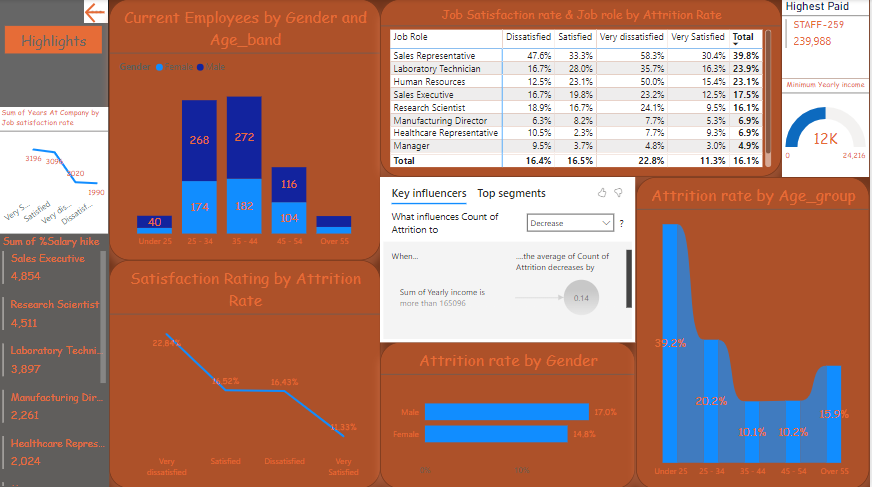

The dashboard page shown, as its layout file describes it:
{"tool":"powerbi","page":{"name":"HR view 2","canvas":[1280,720],"ordinal":1},"visuals":[{"type":"actionButton","box":[27,159,109,40],"z":0},{"type":"shape","box":[0,0,163,720],"z":1000},{"type":"actionButton","box":[124,0,39,40],"z":2000},{"type":"actionButton","box":[11,40,142,40],"z":3000},{"type":"columnChart","title":"Current Employees by Gender and Age_band","fields":{"Category":["HR data.CF_age band"],"Y":["Sum(HR data.CF_current Employee)"],"Series":["HR data.Gender"]},"box":[163,0,399,384],"z":4000},{"type":"pivotTable","title":"Job Satisfaction rate & Job role by Attrition Rate","fields":{"Rows":["HR data.Job Role"],"Values":["HR data.Attrition rate"],"Columns":["HR data.Job satisfaction rate"]},"box":[562,0,590,261],"z":5000},{"type":"lineChart","title":"Satisfaction Rating by Attrition Rate","fields":{"Category":["HR data.Job satisfaction rate"],"Y":["HR data.Attrition rate"]},"box":[163,384,399,336],"z":6000},{"type":"clusteredBarChart","title":"Attrition rate by Gender","fields":{"Category":["HR data.Gender"],"Y":["HR data.Attrition rate"]},"box":[562,491,375,229],"z":7000},{"type":"ribbonChart","title":"Attrition rate by Age_group","fields":{"Category":["HR data.CF_age band"],"Y":["HR data.Attrition rate"]},"box":[937,261,343,459],"z":8000},{"type":"keyDriversVisual","fields":{"Target":["HR data.Count of Attrition"],"ExplainBy":["Sum(HR data.Yearly income)"]},"box":[562,261,375,230],"z":9000},{"type":"multiRowCard","title":"Sum of %Salary hike","fields":{"Values":["Sum(HR data.Percent Salary Hike)","HR data.Job Role"]},"box":[1.5,360,161.6,360],"z":10000},{"type":"gauge","title":"Minimum Yearly income","fields":{"Y":["Min(HR data.Yearly income)"]},"box":[1152,117,128,144],"z":11000},{"type":"lineChart","fields":{"Y":["Sum(HR data.Years At Company)"],"Category":["HR data.Job satisfaction rate"]},"box":[0,143,163,206],"z":12000},{"type":"multiRowCard","title":"Highest Paid","fields":{"Values":["Sum(HR data.Yearly income)","HR data.emp no"]},"box":[1152,0,128,110],"z":13001}]}

Visuals, with their boxes in screenshot pixels (x1, y1, x2, y2), scaled from the page's 1280x720 canvas onto the 872x487 screenshot:
actionButton: 18:108:93:135
shape: 0:0:111:486
actionButton: 84:0:111:27
actionButton: 7:27:104:54
"Current Employees by Gender and Age_band" columnChart: 111:0:383:260
"Job Satisfaction rate & Job role by Attrition Rate" pivotTable: 383:0:785:177
"Satisfaction Rating by Attrition Rate" lineChart: 111:260:383:486
"Attrition rate by Gender" clusteredBarChart: 383:332:638:486
"Attrition rate by Age_group" ribbonChart: 638:177:871:486
keyDriversVisual - HR data.Count of Attrition x Sum(HR data.Yearly income): 383:177:638:332
"Sum of %Salary hike" multiRowCard: 1:244:111:486
"Minimum Yearly income" gauge: 785:79:871:177
lineChart - Sum(HR data.Years At Company) x HR data.Job satisfaction rate: 0:97:111:236
"Highest Paid" multiRowCard: 785:0:871:74
